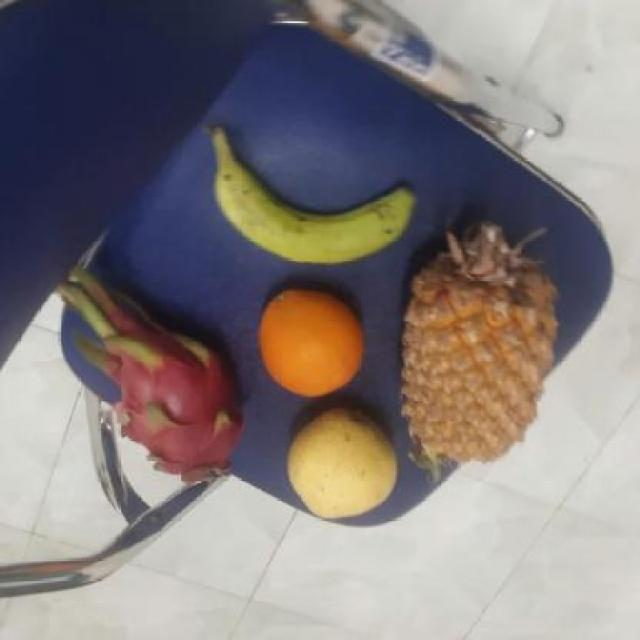banana: (205, 145, 413, 266)
dragon fruit: (112, 334, 246, 484)
oren: (255, 284, 367, 396)
pear: (282, 408, 400, 520)
pineapple: (394, 224, 557, 471)
